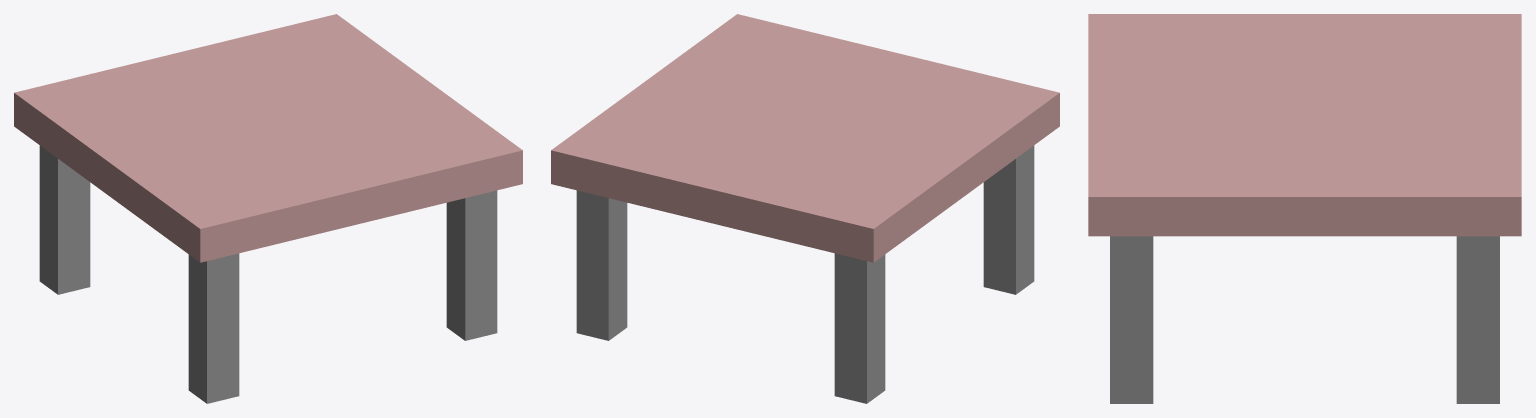
File: Table7.fbx
3 renders of one model, left to right at view 1: azimuth 30°, elevation 25°; view 2: azimuth 150°, elevation 25°; view 3: azimuth 270°, elevation 25°, orthographic. The views are drawn at different scales.
Visible parts, largest first — view 1: Cube; view 2: Cube; view 3: Cube.
Part boxes in pixels (x1=…): Cube: x1=14, y1=14, x2=522, y2=403; Cube: x1=551, y1=14, x2=1059, y2=403; Cube: x1=1088, y1=14, x2=1521, y2=403.
Size of the model in its own units: 1.8 by 0.99 by 1.8.
